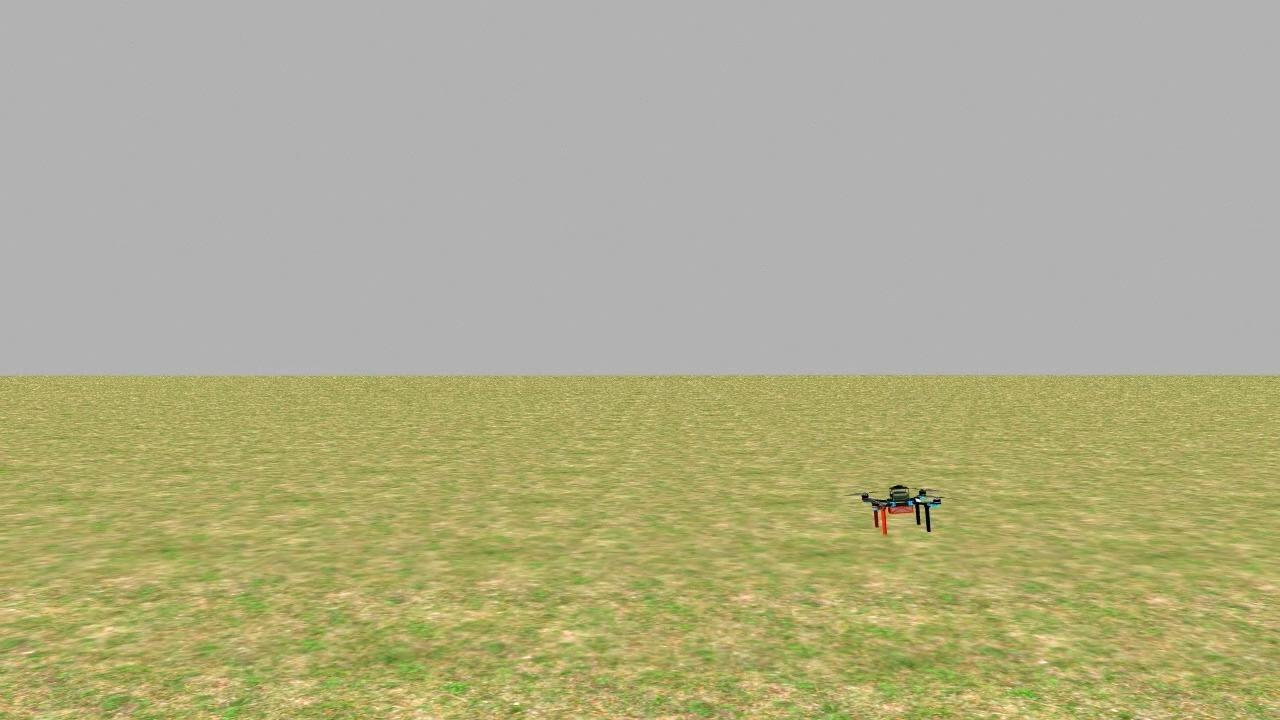UAV: (854, 472, 944, 540)
